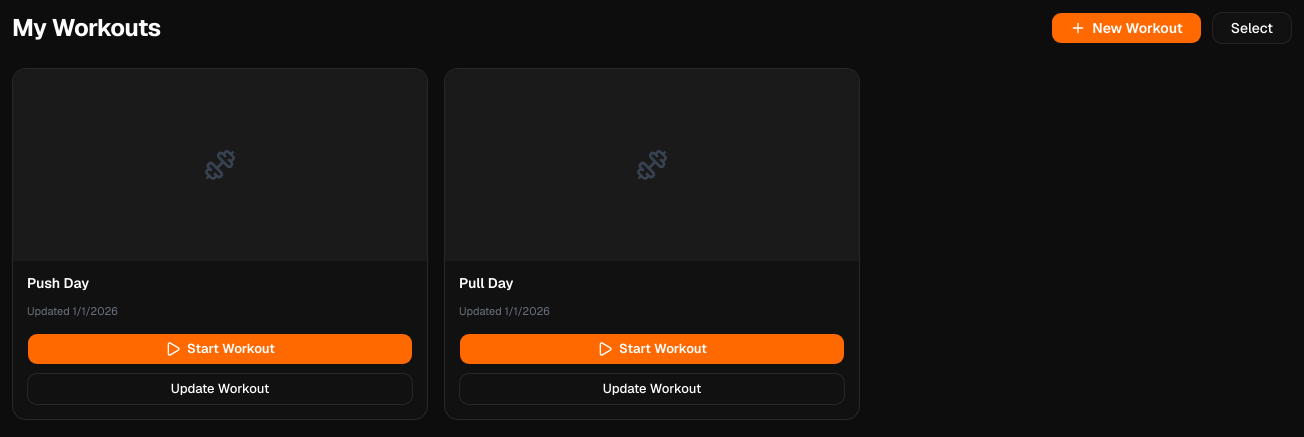
Test: WorkoutList › Select all selects every workout
Click the button "Select" at (1252, 28), box [1212,12,1292,44]
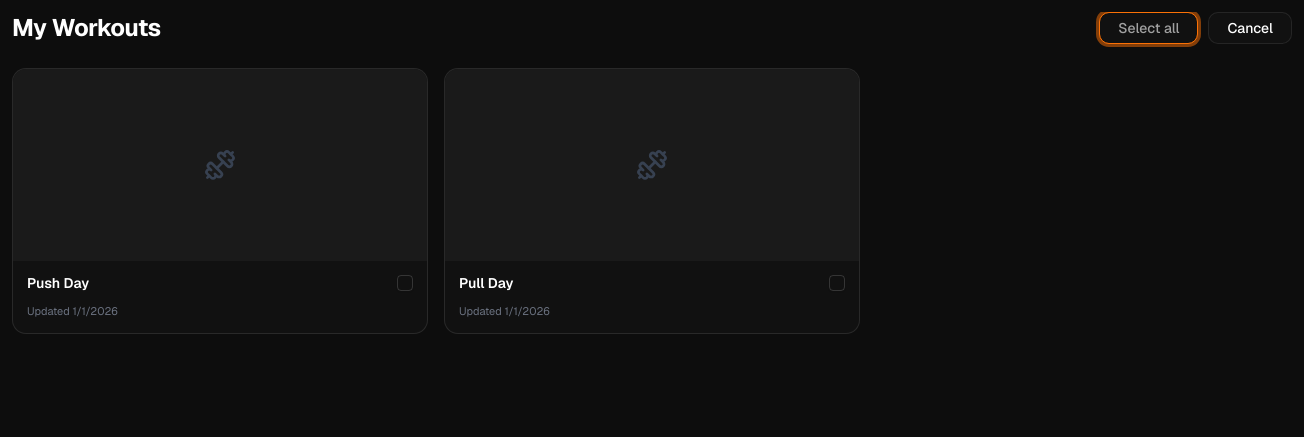
Click the button "Select all" at (1149, 28), box [1099,12,1198,44]
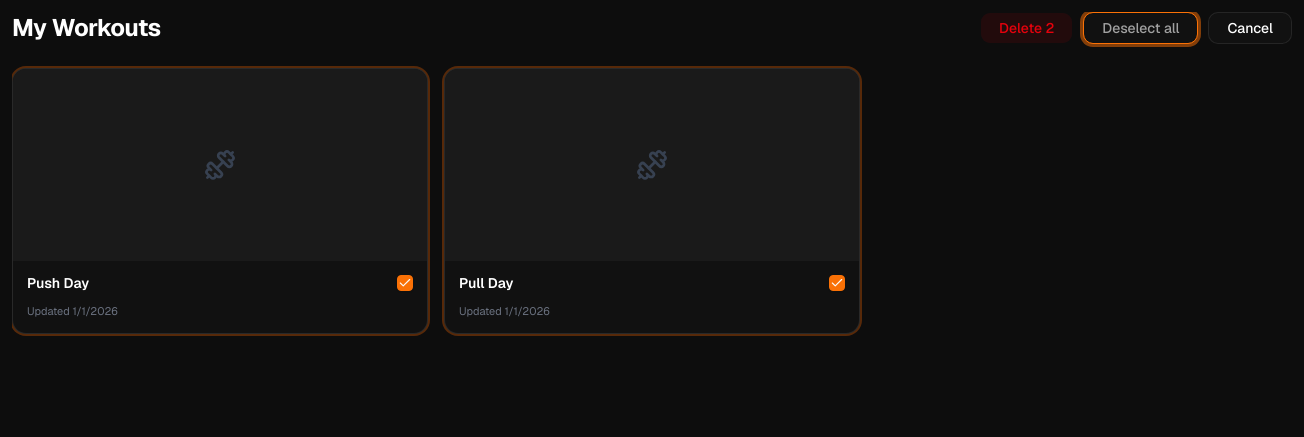
expect the checkbox in the row of "Push Day" is checked: met, box [397,275,413,291]
expect the checkbox in the row of "Pull Day" is checked: met, box [829,275,845,291]
